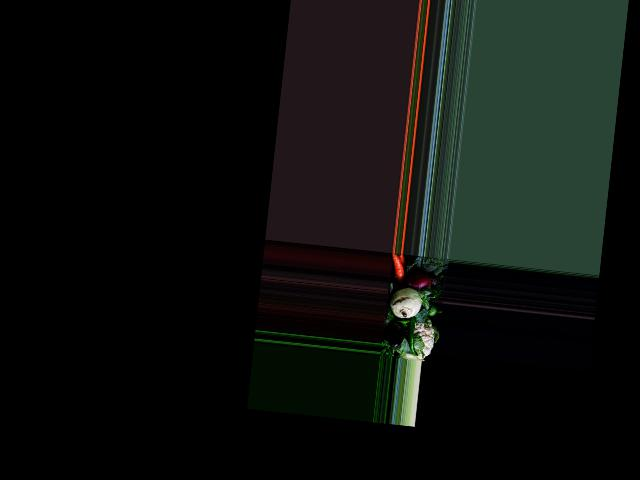carrot: (387, 252, 410, 282)
